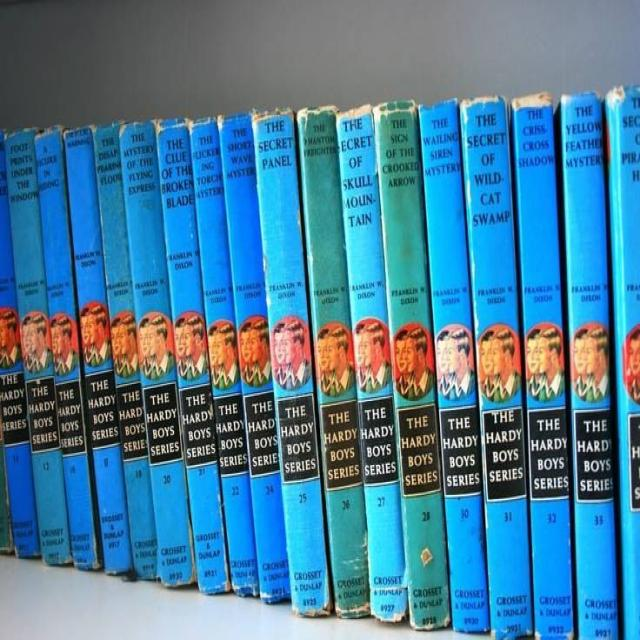book: (251, 108, 331, 614), (375, 100, 451, 627), (460, 100, 533, 639), (335, 102, 408, 624), (418, 97, 488, 633), (298, 107, 370, 618), (118, 120, 196, 587), (154, 118, 230, 593), (217, 116, 289, 601), (512, 90, 575, 640), (188, 118, 257, 594), (91, 124, 161, 579), (64, 128, 132, 571), (562, 93, 617, 640), (34, 128, 99, 568), (5, 130, 70, 564), (608, 85, 640, 640)
